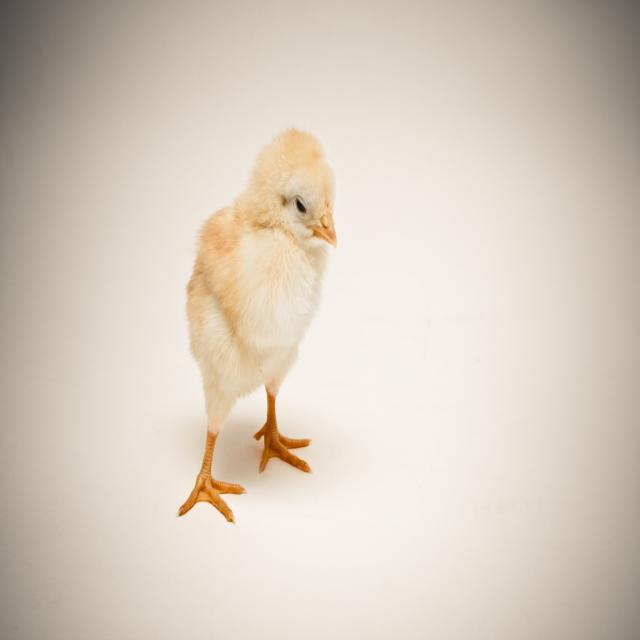Chicken: (173, 122, 339, 499)
